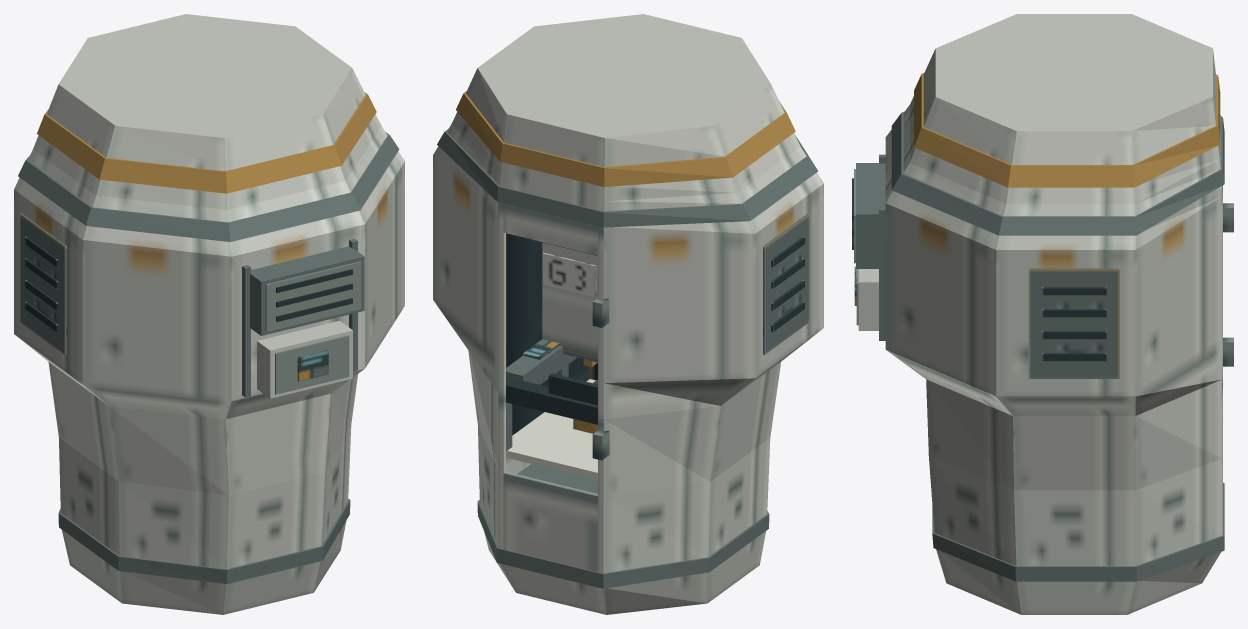
File: rocket_body_tier_3.obj
3 renders of one model, left to right at view 1: azimuth 30°, elevation 25°; view 2: azimuth 150°, elevation 25°; view 3: azimuth 270°, elevation 25°, orthographic.
Visible parts, largest first — view 1: Body; view 2: Body, Hatch; view 3: Body.
Boxes of the visible parts, left/top/right/bottom form: Body: left=14, top=14, right=404, bottom=614; Body: left=433, top=14, right=823, bottom=614; Hatch: left=541, top=242, right=597, bottom=362; Body: left=852, top=14, right=1233, bottom=614.
Bounding box in the file's own units: 1.79 × 2.5 × 1.77.
